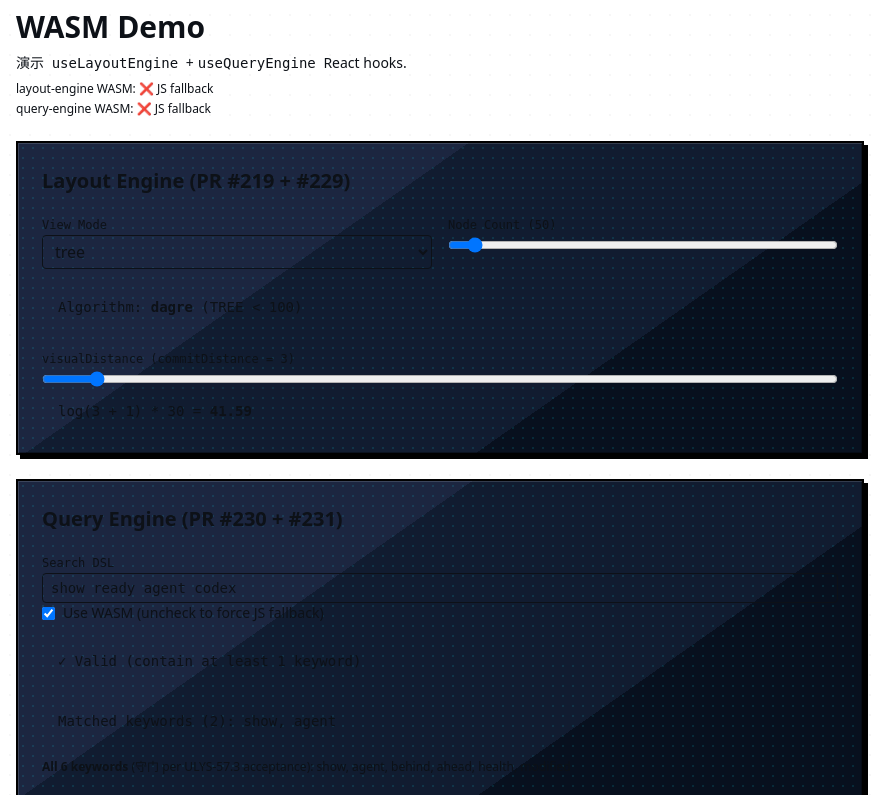
Test case: WasmDemoPage › dependency view → always d3_force
Select "dependency" in the dropdown with test id "wasm-demo-view-mode": {"x": 237, "y": 252} x1=42 y1=235 x2=432 y2=269
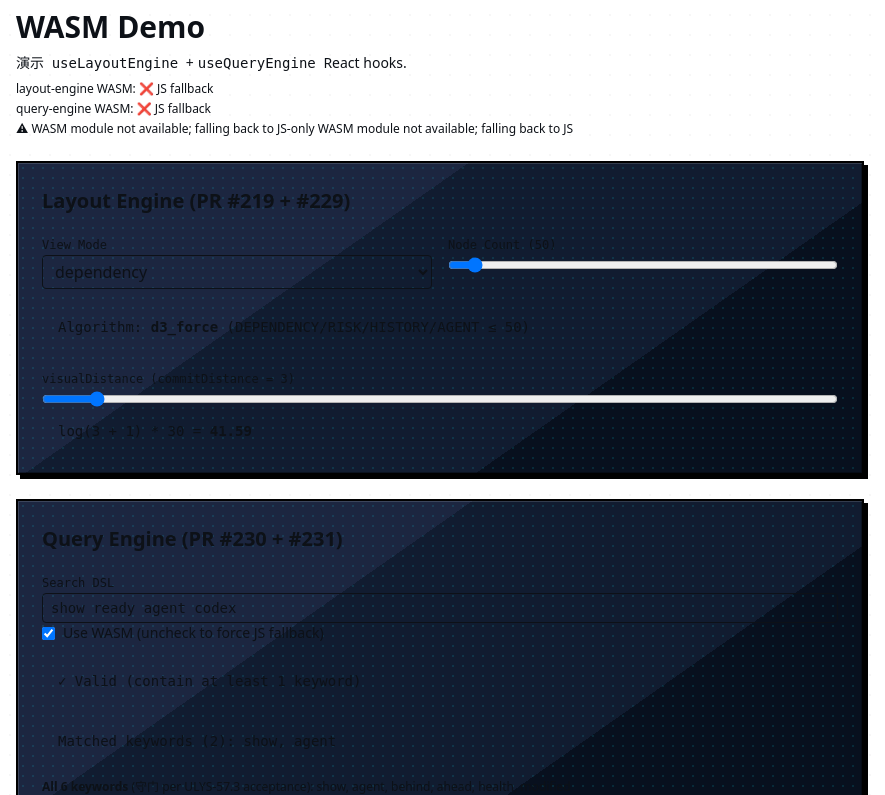
Result: the element with test id "wasm-demo-layout-result" shows "d3_force" at x1=151 y1=319 x2=218 y2=335
